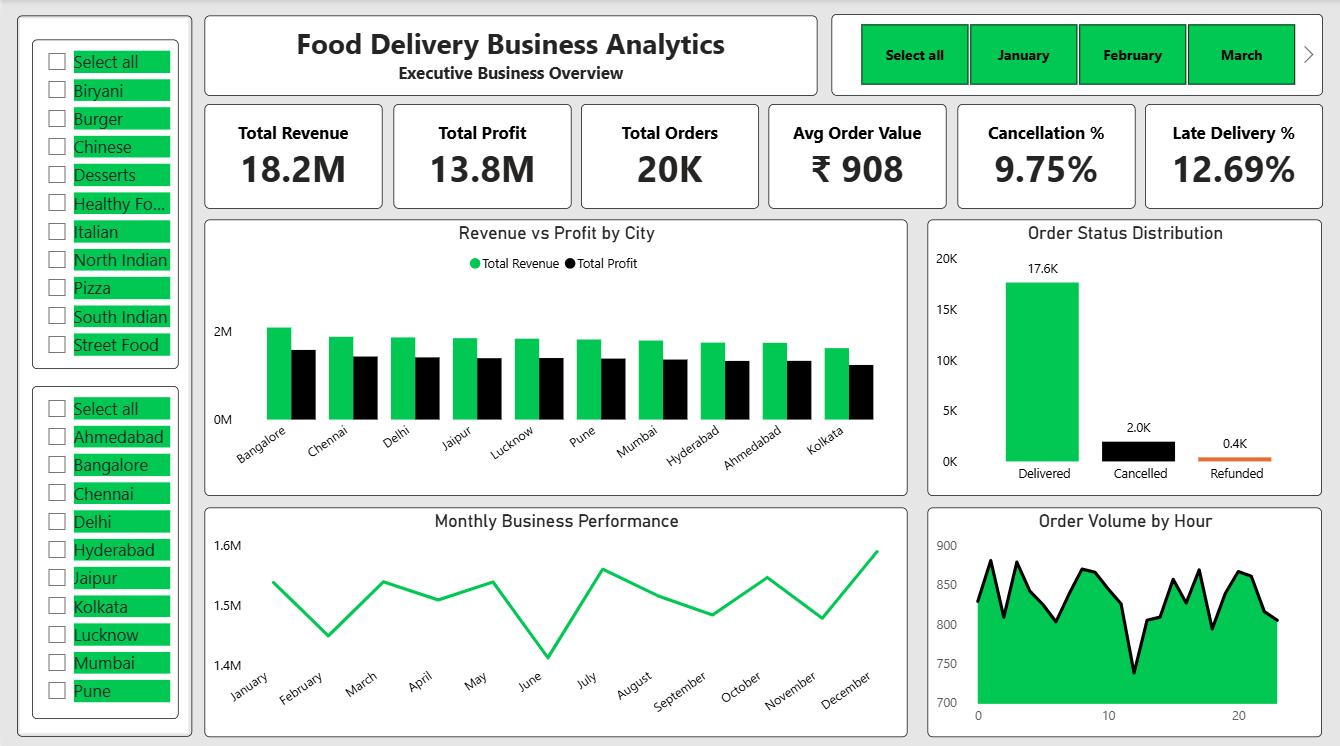

The page's visual inventory and layout, read from the dashboard file:
{"tool":"powerbi","page":{"name":"Executive Business Overview","canvas":[1280,720],"ordinal":0},"visuals":[{"type":"cardVisual","fields":{"Data":["orders_cleaned.Total Revenue"]},"box":[194.1,100,170.2,100.2],"z":0},{"type":"cardVisual","fields":{"Data":["orders_cleaned.Total Profit"]},"box":[373.5,100,170.2,100.2],"z":1000},{"type":"cardVisual","fields":{"Data":["orders_cleaned.Total Orders"]},"box":[552.9,100.2,170.2,100.2],"z":2000},{"type":"cardVisual","fields":{"Data":["orders_cleaned.Avg Order Value"]},"box":[732.3,100,170.2,100.2],"z":3000},{"type":"cardVisual","fields":{"Data":["orders_cleaned.Cancellation Rate"]},"box":[911.7,100,170.2,100.2],"z":4000},{"type":"cardVisual","fields":{"Data":["orders_cleaned.Late Delivery %"]},"box":[1091.2,100,170.2,100.2],"z":5000},{"type":"lineChart","title":"Monthly Business Performance","fields":{"Y":["orders_cleaned.Total Revenue"],"Category":["orders_cleaned.Month Name"]},"box":[194.1,485.1,671.2,219.5],"z":6000},{"type":"areaChart","title":"Order Volume by Hour","fields":{"Category":["orders_cleaned.order_hour"],"Y":["orders_cleaned.Total Orders"]},"box":[884.4,485.1,377,219.5],"z":8000},{"type":"clusteredColumnChart","title":"Revenue vs Profit by City","fields":{"Category":["orders_cleaned.city"],"Y":["orders_cleaned.Total Revenue","orders_cleaned.Total Profit"]},"box":[194.1,210,671.2,264],"z":9000},{"type":"columnChart","title":"Order Status Distribution","fields":{"Category":["orders_cleaned.order_status"],"Y":["CountNonNull(orders_cleaned.order_id)"]},"box":[884.4,210,377,264],"z":10000},{"type":"slicer","fields":{"Values":["orders_cleaned.Month Name"]},"box":[792.1,15,469.2,77.9],"z":11000},{"type":"textbox","box":[194.1,15.9,585.3,76.3],"z":12000},{"type":"shape","box":[14.3,15.9,167,688.7],"z":13000},{"type":"slicer","fields":{"Values":["orders_cleaned.city"]},"box":[28.6,370,140,318.1],"z":14000},{"type":"slicer","fields":{"Values":["orders_cleaned.cuisine"]},"box":[28.6,39,140,314.9],"z":15000}]}

Visuals, with their boxes in screenshot pixels (x1, y1, x2, y2), scaled from the page's 1280x720 canvas onto the 1340x746 screenshot:
cardVisual - orders_cleaned.Total Revenue: BBox(203, 104, 381, 207)
cardVisual - orders_cleaned.Total Profit: BBox(391, 104, 569, 207)
cardVisual - orders_cleaned.Total Orders: BBox(579, 104, 757, 208)
cardVisual - orders_cleaned.Avg Order Value: BBox(767, 104, 945, 207)
cardVisual - orders_cleaned.Cancellation Rate: BBox(954, 104, 1133, 207)
cardVisual - orders_cleaned.Late Delivery %: BBox(1142, 104, 1321, 207)
"Monthly Business Performance" lineChart: BBox(203, 503, 906, 730)
"Order Volume by Hour" areaChart: BBox(926, 503, 1321, 730)
"Revenue vs Profit by City" clusteredColumnChart: BBox(203, 218, 906, 491)
"Order Status Distribution" columnChart: BBox(926, 218, 1321, 491)
slicer - orders_cleaned.Month Name: BBox(829, 16, 1320, 96)
textbox: BBox(203, 16, 816, 96)
shape: BBox(15, 16, 190, 730)
slicer - orders_cleaned.city: BBox(30, 383, 177, 713)
slicer - orders_cleaned.cuisine: BBox(30, 40, 177, 367)
